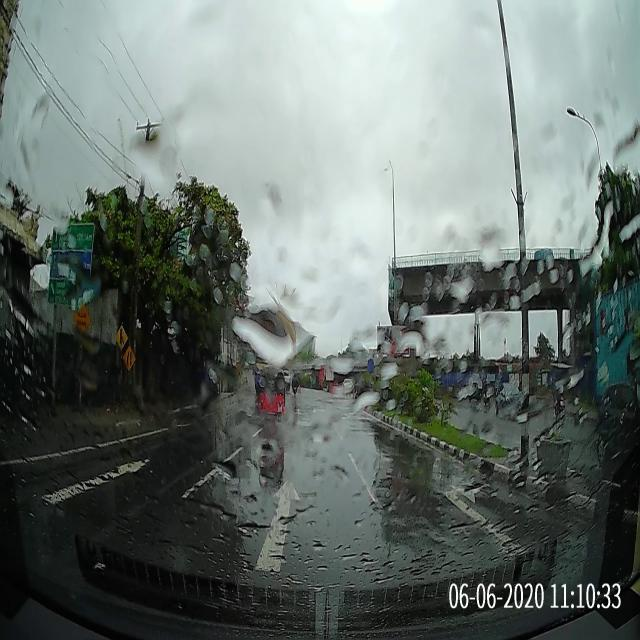forward: (110, 476, 414, 581)
